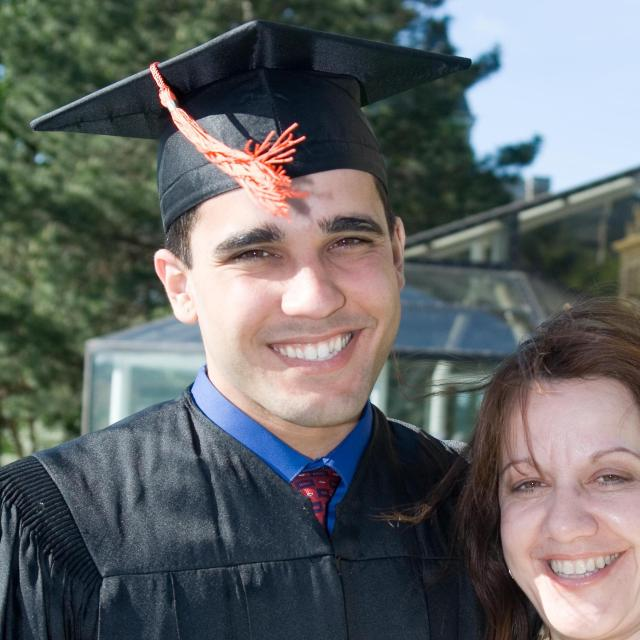no-glass: (217, 231, 383, 270)
